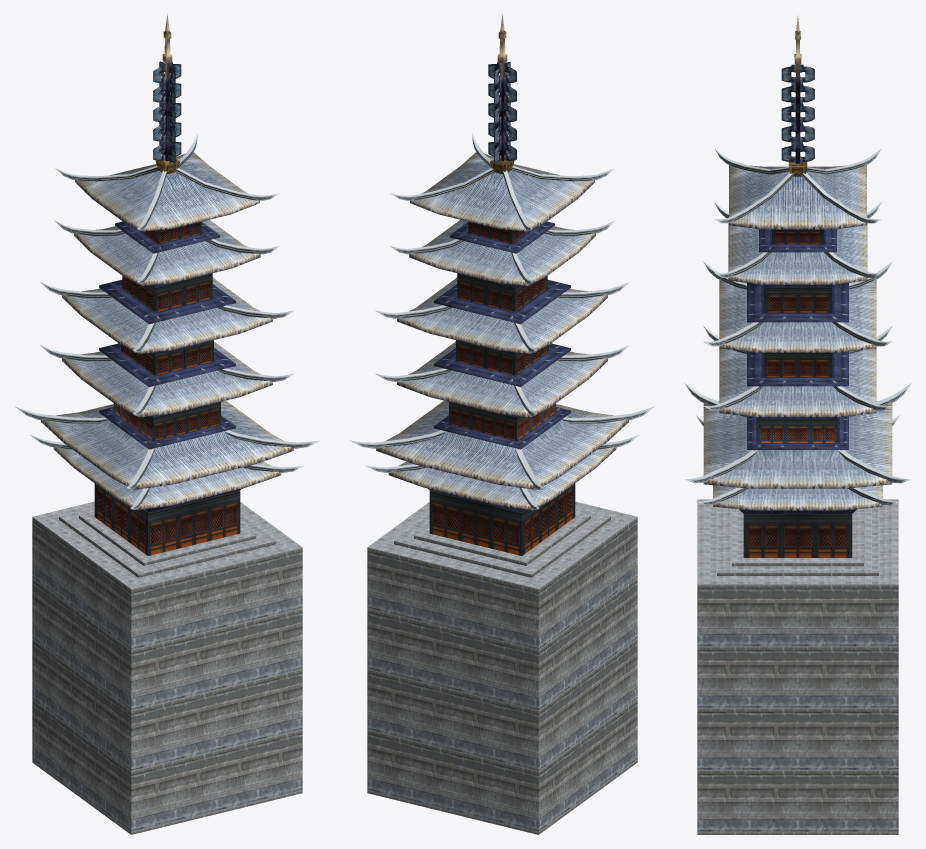
3 renders of one model, left to right at view 1: azimuth 30°, elevation 25°; view 2: azimuth 150°, elevation 25°; view 3: azimuth 270°, elevation 25°, orthographic.
Parts seen in each view (by area): view 1: jz_ta_0101, jz_ta_01; view 2: jz_ta_0101, jz_ta_01; view 3: jz_ta_01, jz_ta_0101.
Boxes of the visible parts, x1=… form: jz_ta_0101: x1=32, y1=501, x2=302, y2=834; jz_ta_01: x1=15, y1=14, x2=319, y2=555; jz_ta_0101: x1=367, y1=501, x2=637, y2=834; jz_ta_01: x1=350, y1=14, x2=654, y2=555; jz_ta_01: x1=684, y1=16, x2=911, y2=557; jz_ta_0101: x1=697, y1=499, x2=898, y2=834.
Size of the model in its own units: 1678 by 6294 by 1670.
